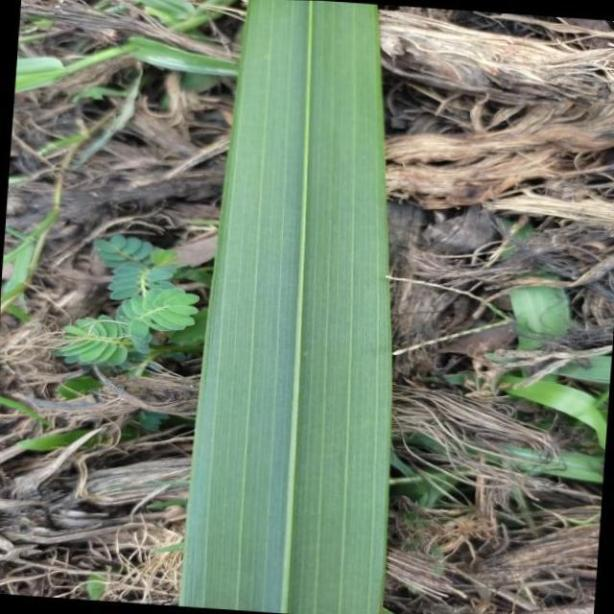Healthy: (178, 0, 390, 614)
